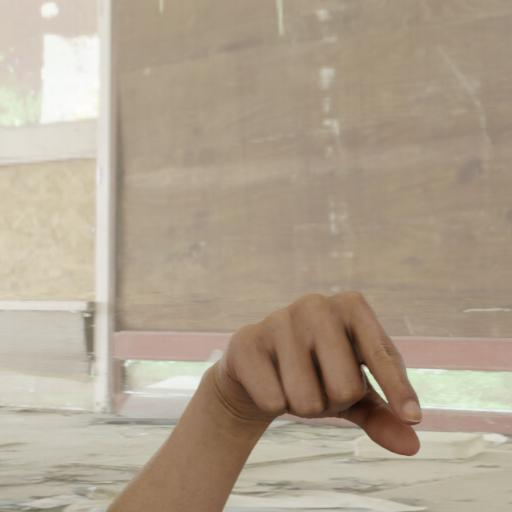Q: (186, 267, 454, 500)
